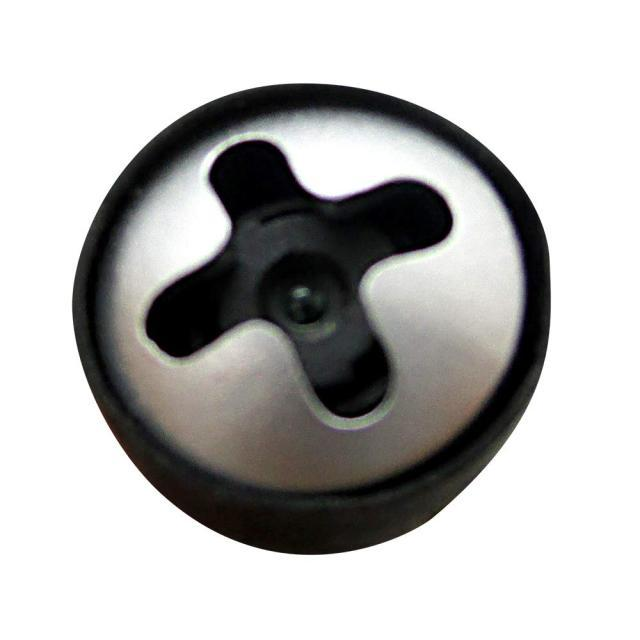hidden camera: (279, 275, 332, 328)
